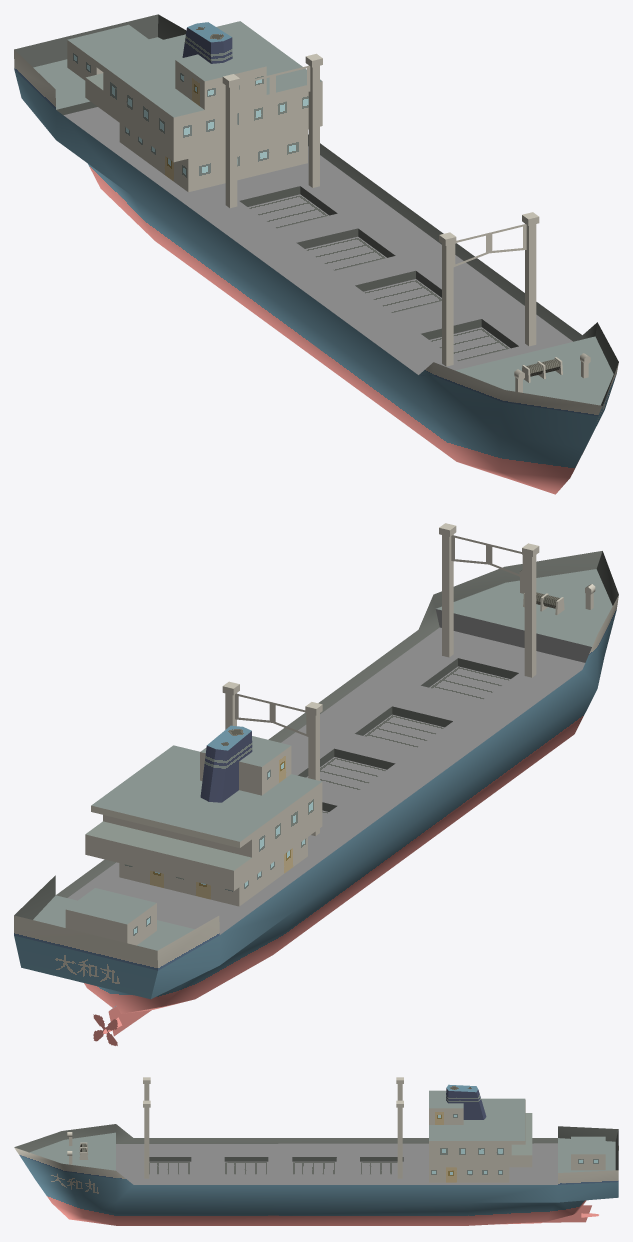
Rendered from 0272_Cargo_Ship.glb.
3 views of the same model, one above another, from view 1: azimuth 30°, elevation 25°; view 2: azimuth 150°, elevation 25°; view 3: azimuth 270°, elevation 25° (orthographic). The views are drawn at different scales.
Visible parts, largest first — view 1: part_0; view 2: part_0; view 3: part_0.
Part boxes in pixels (x1,y1,x2,y2): part_0: (14, 14, 618, 494); part_0: (14, 523, 618, 1045); part_0: (14, 1077, 618, 1225).
Bounding box in the file's own units: 31.91 × 42.77 × 174.
1 material, 1 textured.
